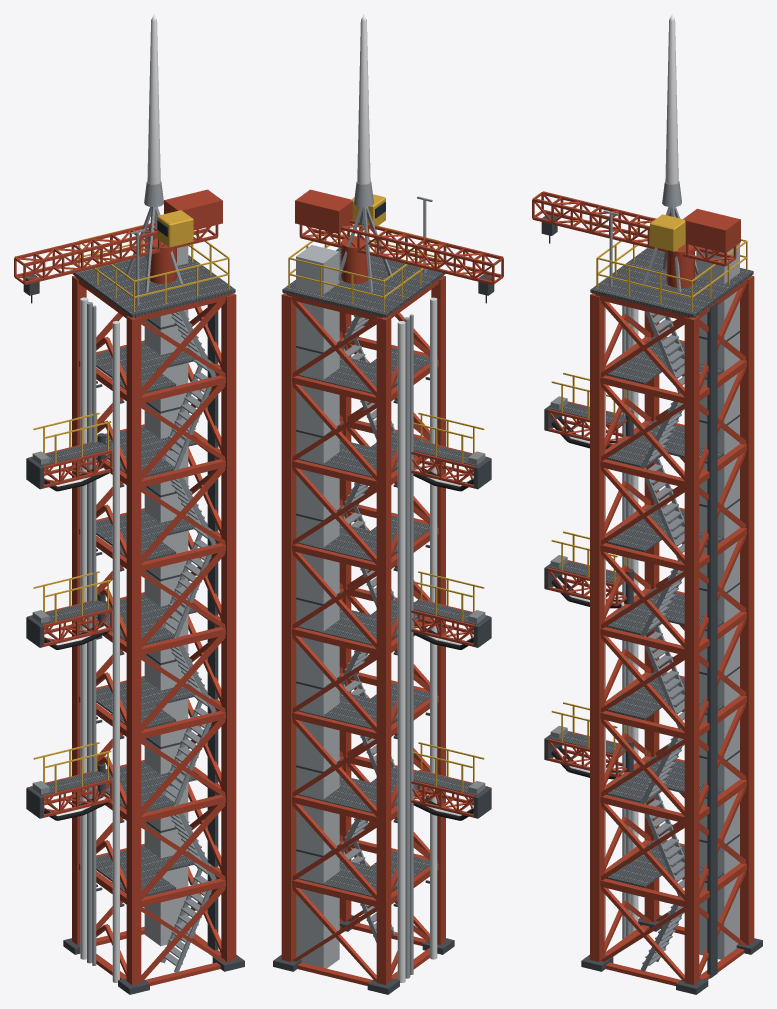
The model's file is tower_fixed.glb.
3 renders of one model, left to right at view 1: azimuth 30°, elevation 25°; view 2: azimuth 150°, elevation 25°; view 3: azimuth 330°, elevation 25°, orthographic.
Visible parts, largest first — view 1: body, head, pose_arm_1, pose_arm_2, pose_arm_3, top_mast; view 2: body, head, pose_arm_2, pose_arm_1, pose_arm_3, top_mast; view 3: body, head, pose_arm_2, top_mast, pose_arm_1, pose_arm_3.
Boxes of the visible parts, box(x1,y1,x2,y2) form: body: box(63, 222, 244, 994); head: box(14, 189, 235, 317); pose_arm_1: box(26, 742, 112, 820); pose_arm_2: box(26, 571, 112, 649); pose_arm_3: box(26, 412, 112, 491); top_mast: box(125, 14, 183, 292); body: box(273, 225, 454, 994); head: box(282, 189, 503, 317); pose_arm_2: box(411, 571, 491, 649); pose_arm_1: box(411, 742, 491, 820); pose_arm_3: box(411, 412, 491, 491); top_mast: box(338, 14, 392, 292); body: box(581, 217, 762, 994); head: box(532, 191, 753, 317); pose_arm_2: box(544, 531, 633, 608); top_mast: box(643, 14, 698, 292); pose_arm_1: box(544, 702, 633, 779); pose_arm_3: box(544, 372, 633, 448).
Size of the model in its own units: 6.73 by 30.9 by 3.95.
11 materials, 1 textured.
